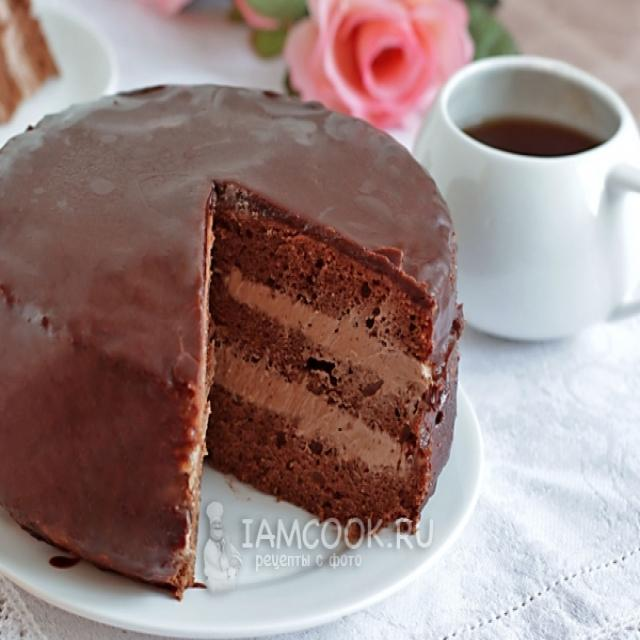Wet Waste: (14, 76, 490, 574)
